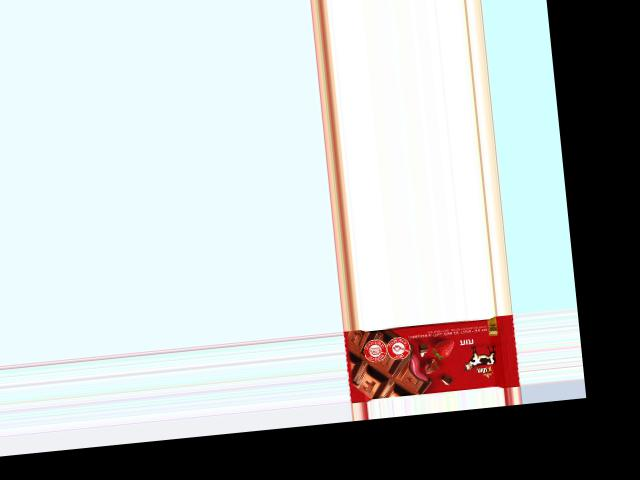chocolate: (343, 314, 521, 402)
